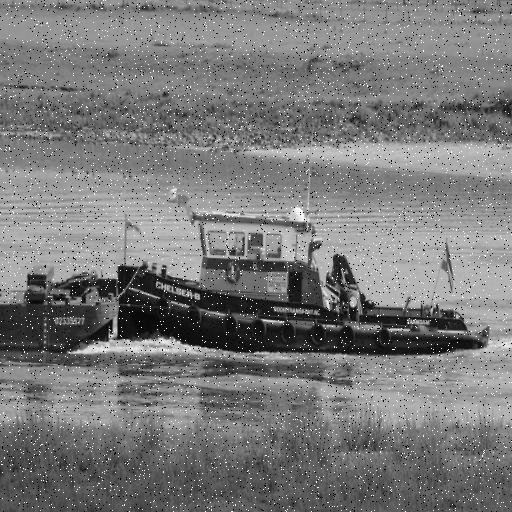tugboat: (117, 196, 499, 362)
